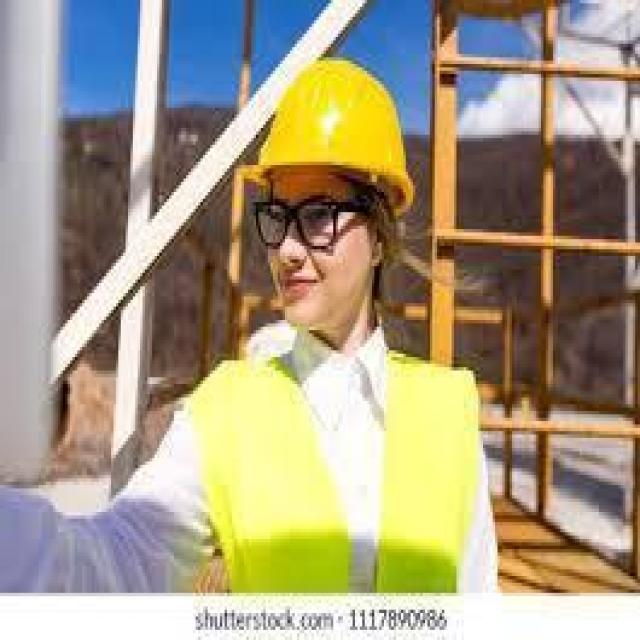helmet: (237, 61, 415, 212)
